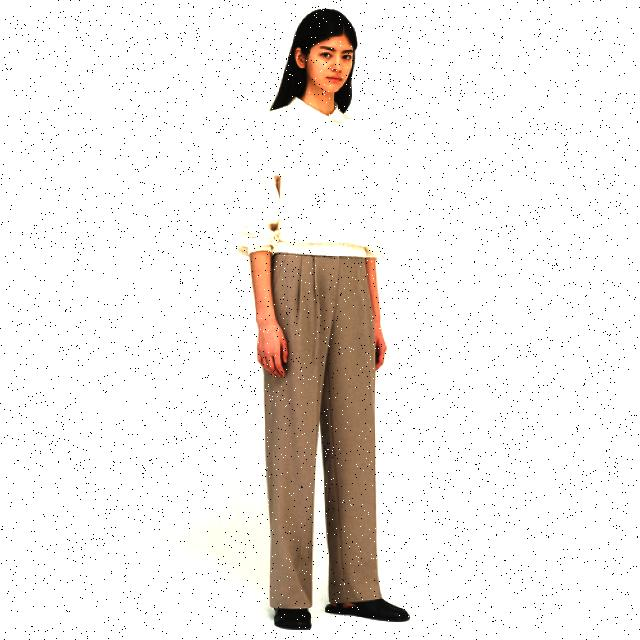dress: (264, 256, 381, 602)
